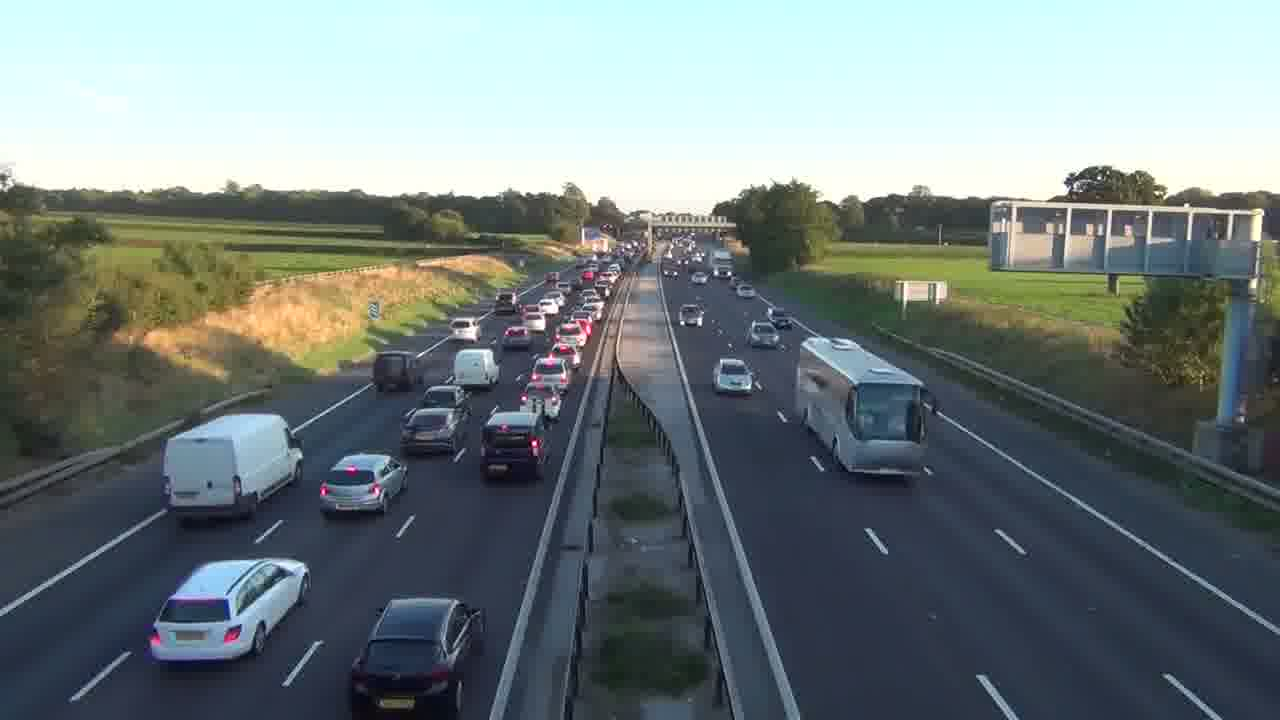car: (146, 557, 310, 664), (348, 595, 486, 716), (318, 452, 408, 517), (480, 409, 548, 481), (399, 405, 472, 456), (713, 357, 755, 397), (746, 320, 784, 350)
truck: (793, 335, 932, 475), (161, 411, 304, 525), (451, 347, 500, 393)
